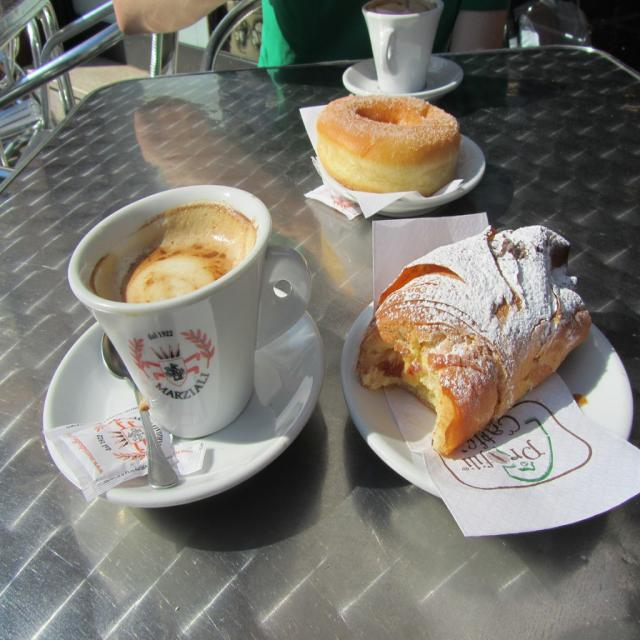Coffee: (95, 178, 284, 448), (363, 2, 438, 15)
Tea: (92, 203, 256, 300)
